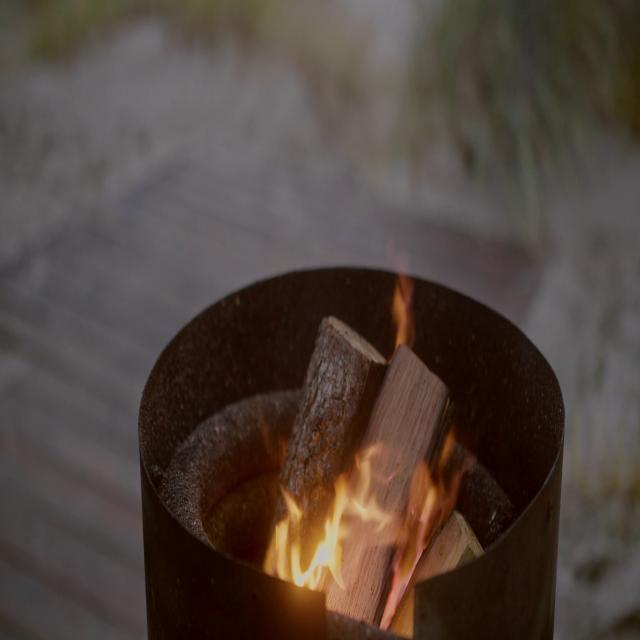Fire: (264, 426, 430, 624)
